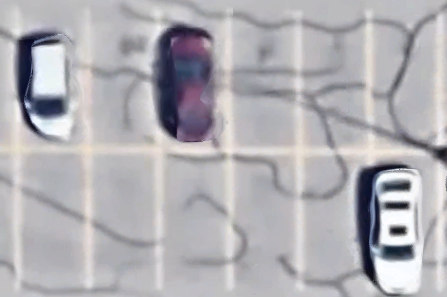Occupied: (15, 7, 89, 151), (160, 8, 229, 150), (371, 152, 441, 288)
Vacant: (368, 9, 441, 153), (88, 8, 160, 151), (15, 149, 89, 288), (299, 9, 370, 153), (228, 9, 298, 153), (299, 152, 372, 288), (160, 150, 231, 289), (89, 150, 160, 288), (229, 151, 300, 287)
